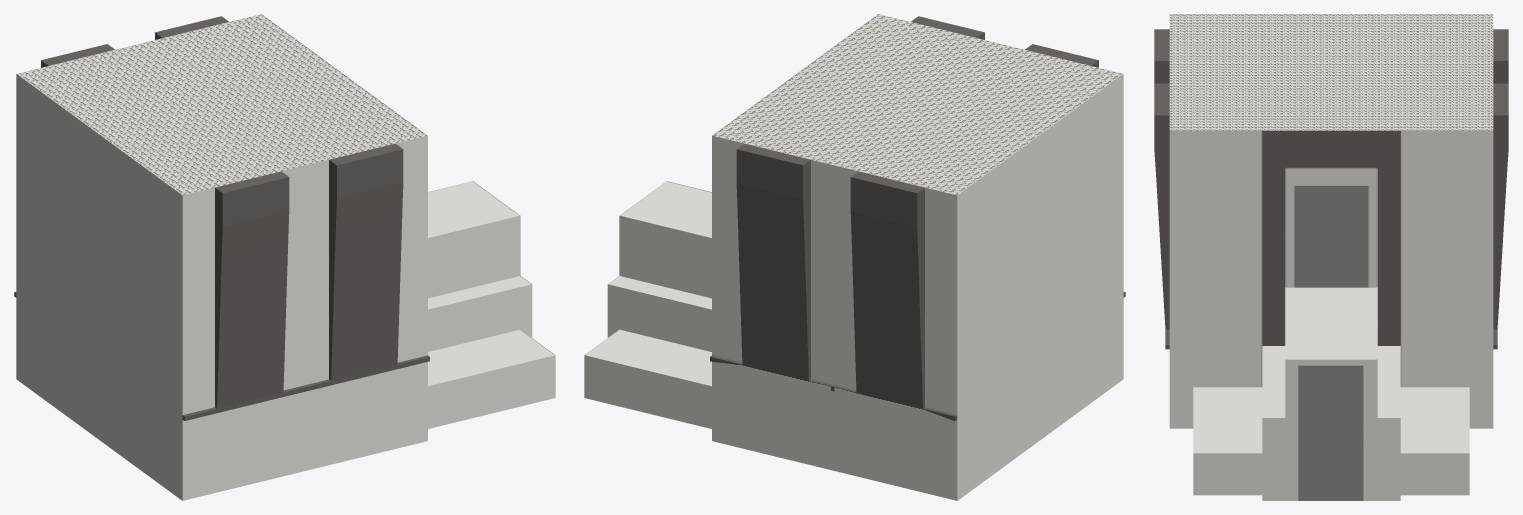
The model's file is nasa center.fbx.
3 renders of one model, left to right at view 1: azimuth 30°, elevation 25°; view 2: azimuth 150°, elevation 25°; view 3: azimuth 270°, elevation 25°, orthographic. The views are drawn at different scales.
Parts seen in each view (by area): view 1: nasa_center; view 2: nasa_center; view 3: nasa_center.
Part boxes in pixels (left/top/right/bottom): nasa_center: left=14, top=14, right=555, bottom=500; nasa_center: left=584, top=14, right=1125, bottom=500; nasa_center: left=1154, top=14, right=1508, bottom=500.
Bounding box in the file's own units: 2107 × 1551 × 1669.
